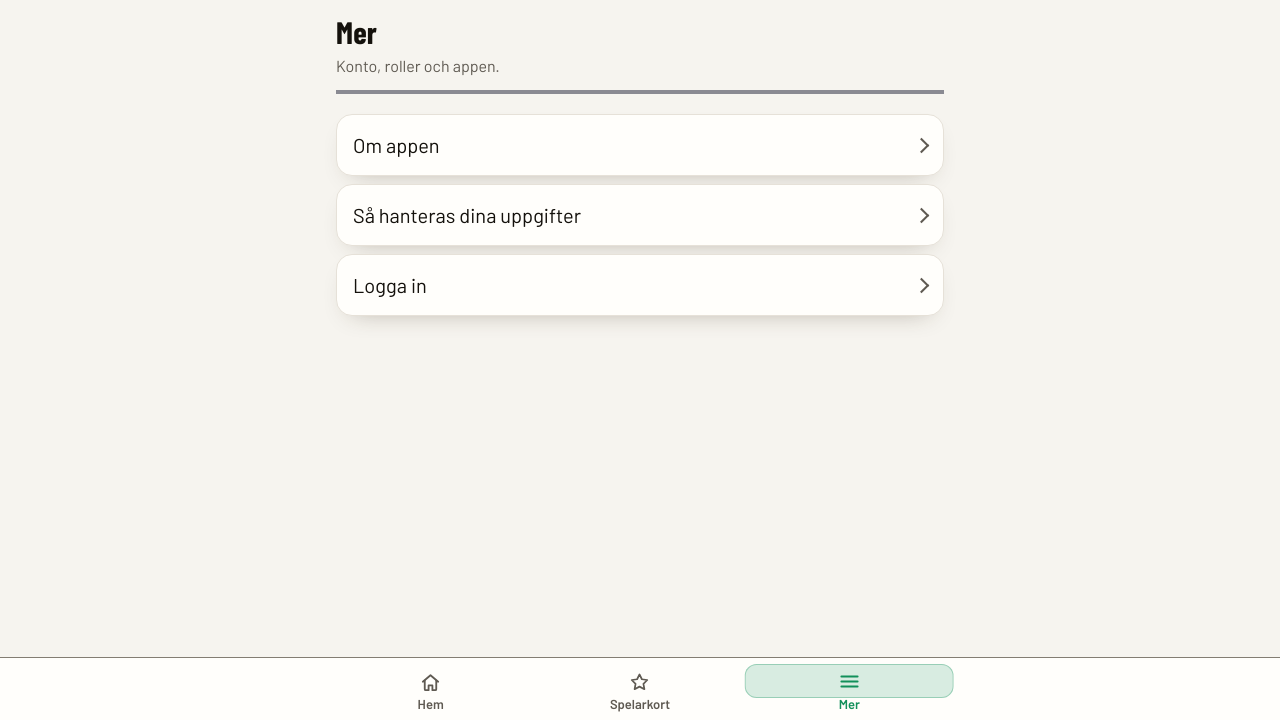
it: botten-navbaren når appens delar › tar en till spelarkortet med ett klick
Click the link "Spelarkort".
click(640, 691)  # box [610,671,670,712]
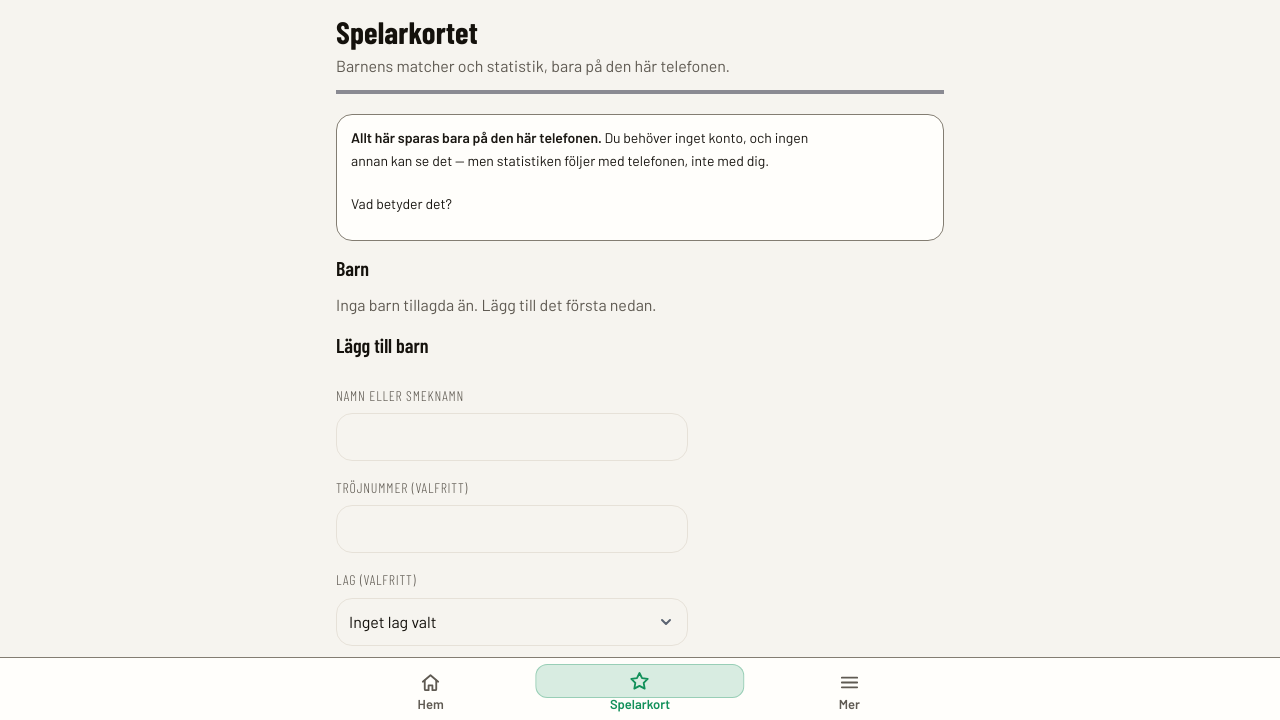
Check: the heading "Spelarkortet" is shown, box [336,13,478,50]
